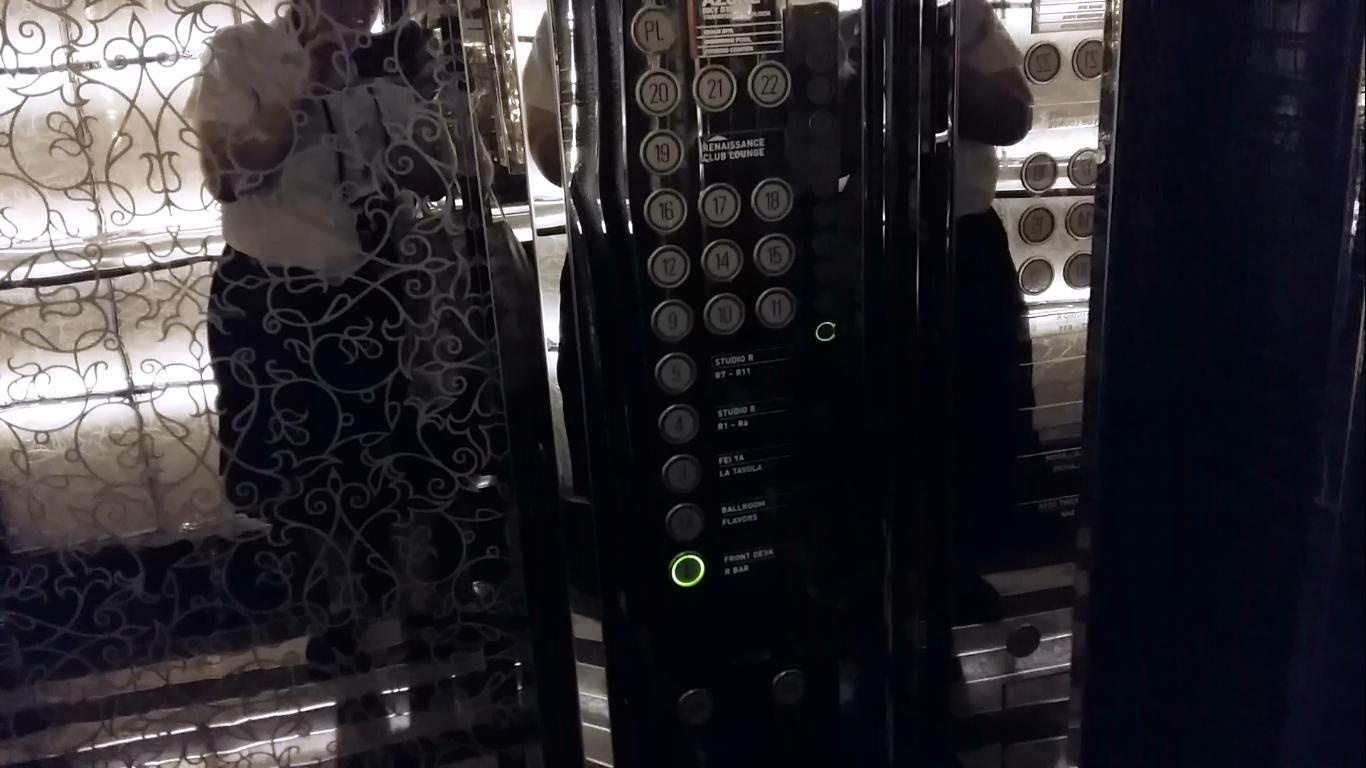1: (664, 551, 708, 587)
10: (702, 292, 746, 336)
11: (755, 285, 798, 331)
12: (646, 243, 693, 289)
14: (700, 236, 745, 282)
15: (752, 231, 797, 278)
16: (643, 186, 690, 232)
17: (696, 182, 742, 230)
18: (750, 176, 795, 223)
19: (636, 130, 685, 175)
20: (634, 68, 682, 115)
21: (691, 63, 737, 113)
22: (746, 61, 793, 106)
4: (658, 402, 700, 447)
5: (654, 351, 697, 394)
9: (651, 299, 695, 343)
PL: (629, 6, 682, 56)
blur: (666, 501, 705, 544), (659, 455, 703, 493), (675, 686, 715, 727), (767, 668, 808, 707), (1007, 620, 1042, 659)
unknown: (1023, 39, 1063, 83), (1019, 150, 1058, 195), (1019, 204, 1056, 246), (1017, 257, 1056, 296), (1062, 248, 1097, 291), (1065, 146, 1101, 187), (1072, 37, 1105, 80), (1066, 200, 1100, 238)
